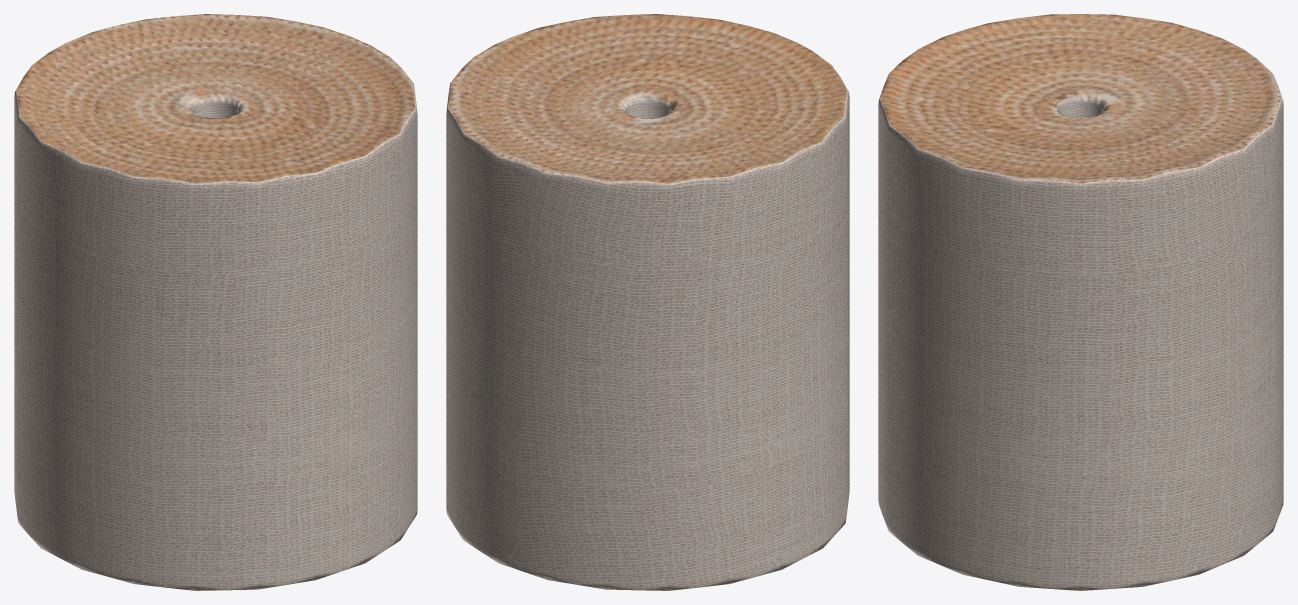
File: perban-compressed.glb
3 renders of one model, left to right at view 1: azimuth 30°, elevation 25°; view 2: azimuth 150°, elevation 25°; view 3: azimuth 270°, elevation 25°, orthographic.
Visible parts, largest first — view 1: Perban.002; view 2: Perban.002; view 3: Perban.002.
Part boxes in pixels (bbox=[...]): Perban.002: bbox=[14, 14, 417, 590]; Perban.002: bbox=[446, 14, 849, 590]; Perban.002: bbox=[878, 14, 1283, 590].
Size of the model in its own units: 0.0231 by 0.0257 by 0.0231.
Materials: 1 (1 with a texture image).
